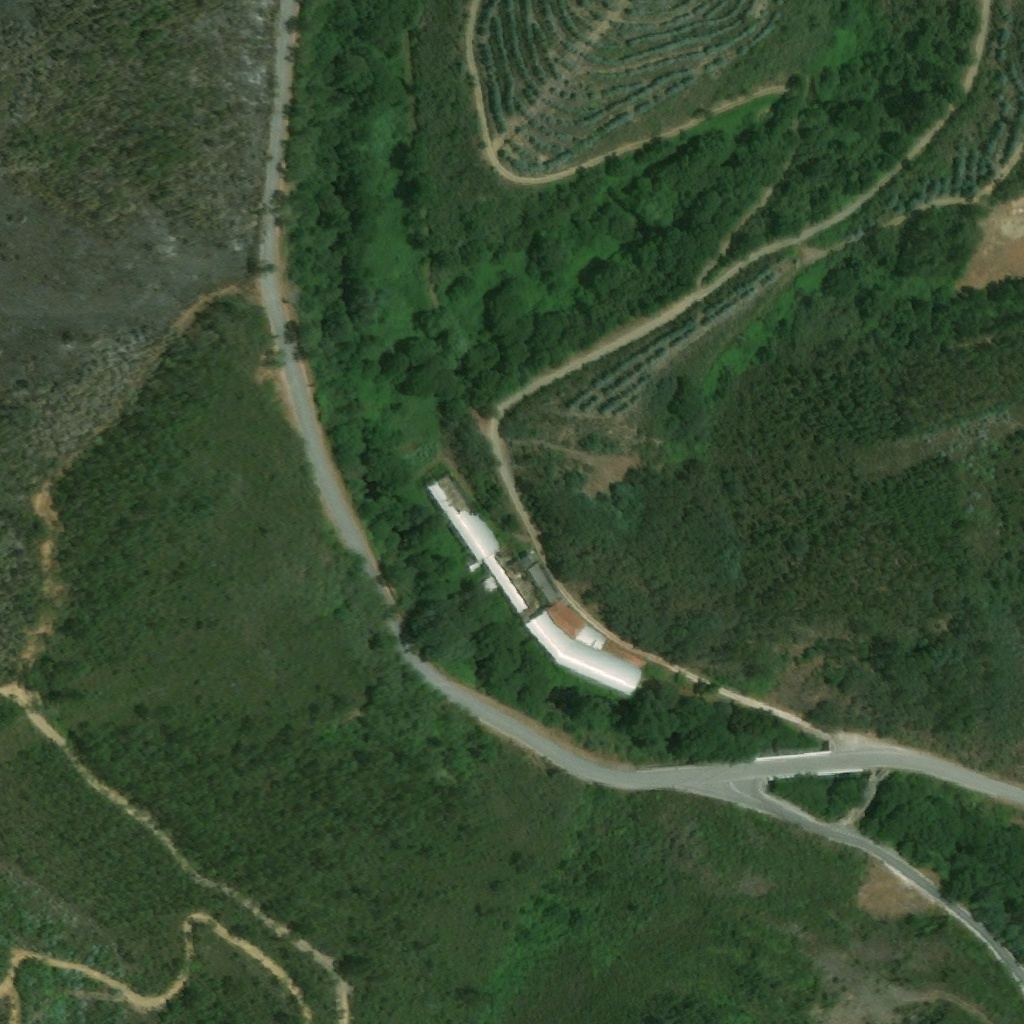0 no-damage: (424, 481, 528, 615), (524, 615, 643, 702), (544, 601, 587, 640), (526, 562, 560, 605), (603, 642, 647, 670)
